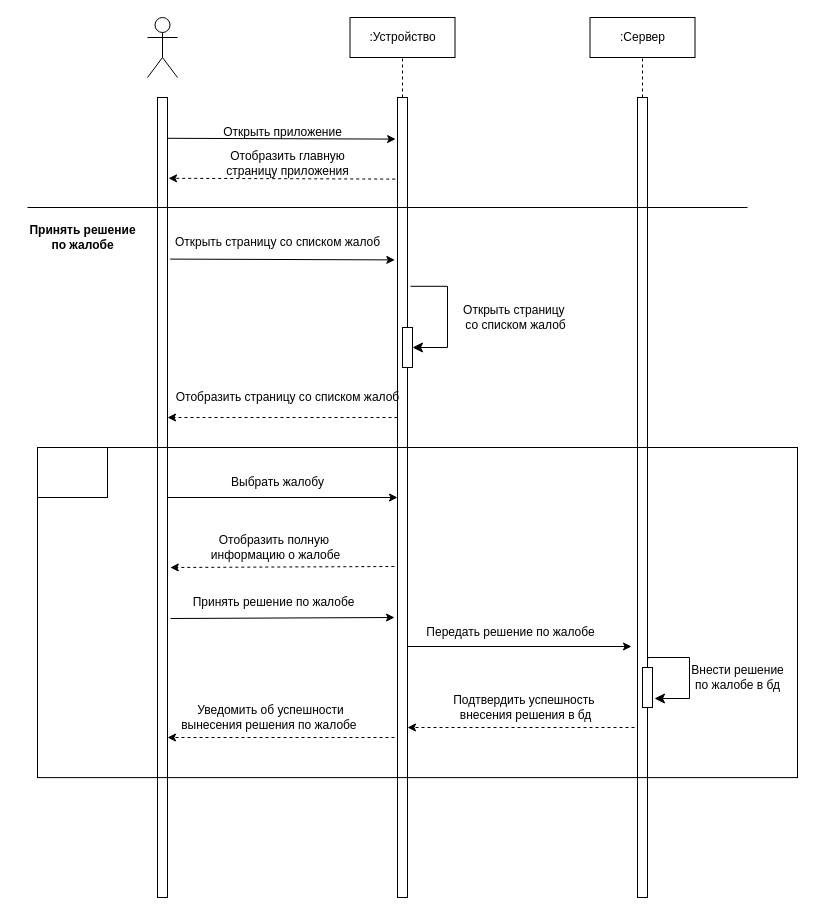
Some shapes in this 815 by 915 pixel diagram are drawn without their labels. The centre of each missing label's shape, as x and y in pixels:
"loop" belongs at point 72,472.
"Администратор" belongs at point 162,47.
